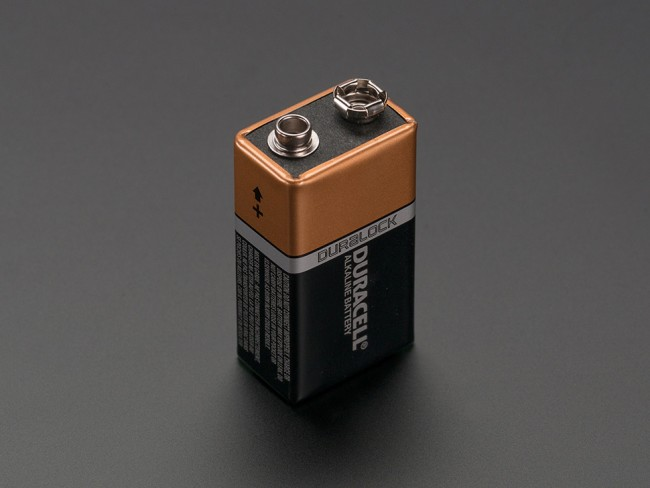9V: (227, 71, 432, 415)
